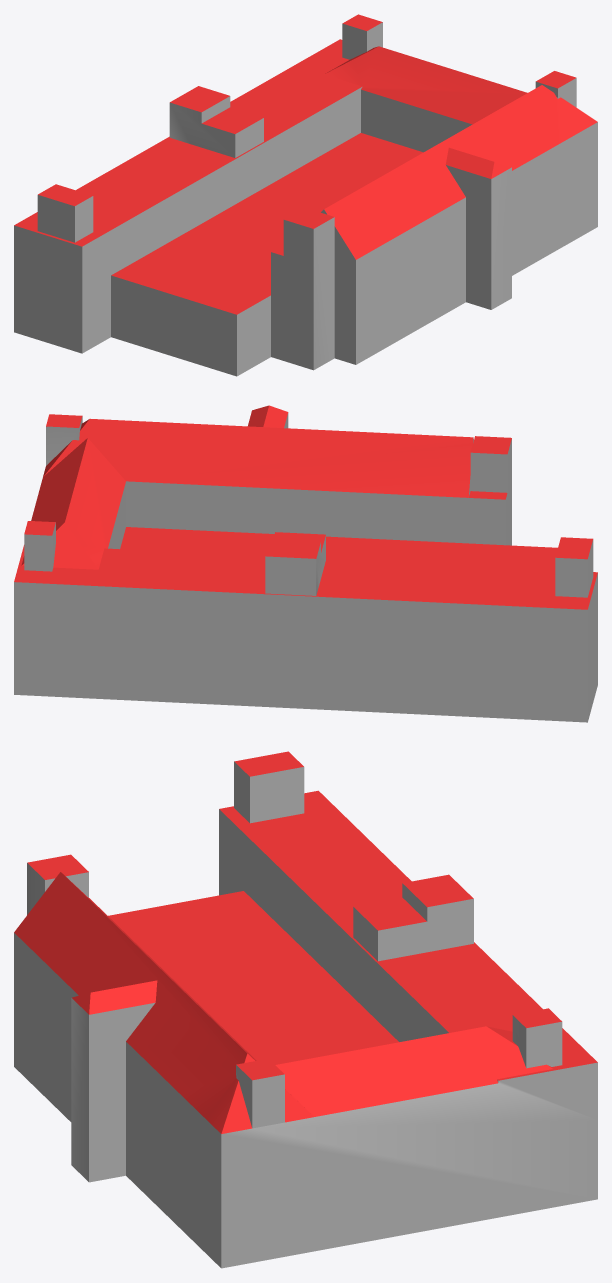
3 views of the same model, one above another, from view 1: azimuth 30°, elevation 25°; view 2: azimuth 150°, elevation 25°; view 3: azimuth 270°, elevation 25° (orthographic). The views are drawn at different scales.
Size of the model in its own units: 143 by 103 by 36.43.
